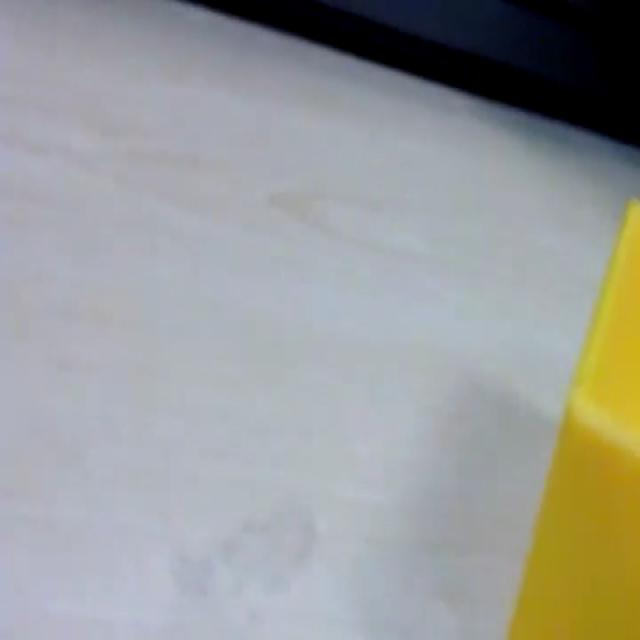yellow_block: (505, 195, 638, 636)
